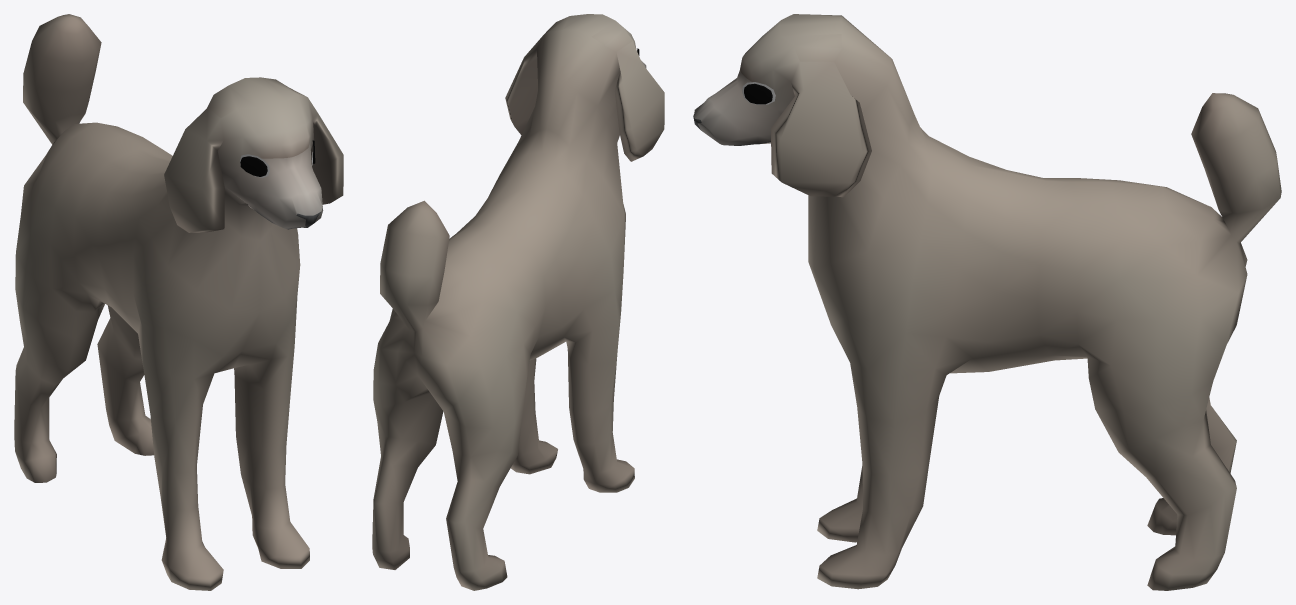
The model's file is kit-poodle.glb.
The picture shows the model from 3 angles, left to right: view 1: azimuth 30°, elevation 25°; view 2: azimuth 150°, elevation 25°; view 3: azimuth 270°, elevation 25°; orthographic projection. The views are drawn at different scales.
Visible parts, largest first — view 1: base; view 2: base; view 3: base.
Boxes of the visible parts, x1=… form: base: x1=14, y1=14, x2=343, y2=590; base: x1=372, y1=14, x2=664, y2=590; base: x1=693, y1=14, x2=1281, y2=590.
Size of the model in its own units: 0.2783 by 0.8676 by 0.8668.
